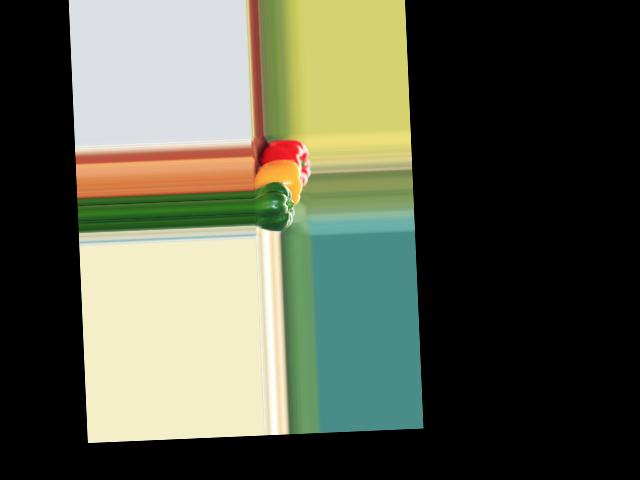bell_pepper: (253, 139, 310, 188)
